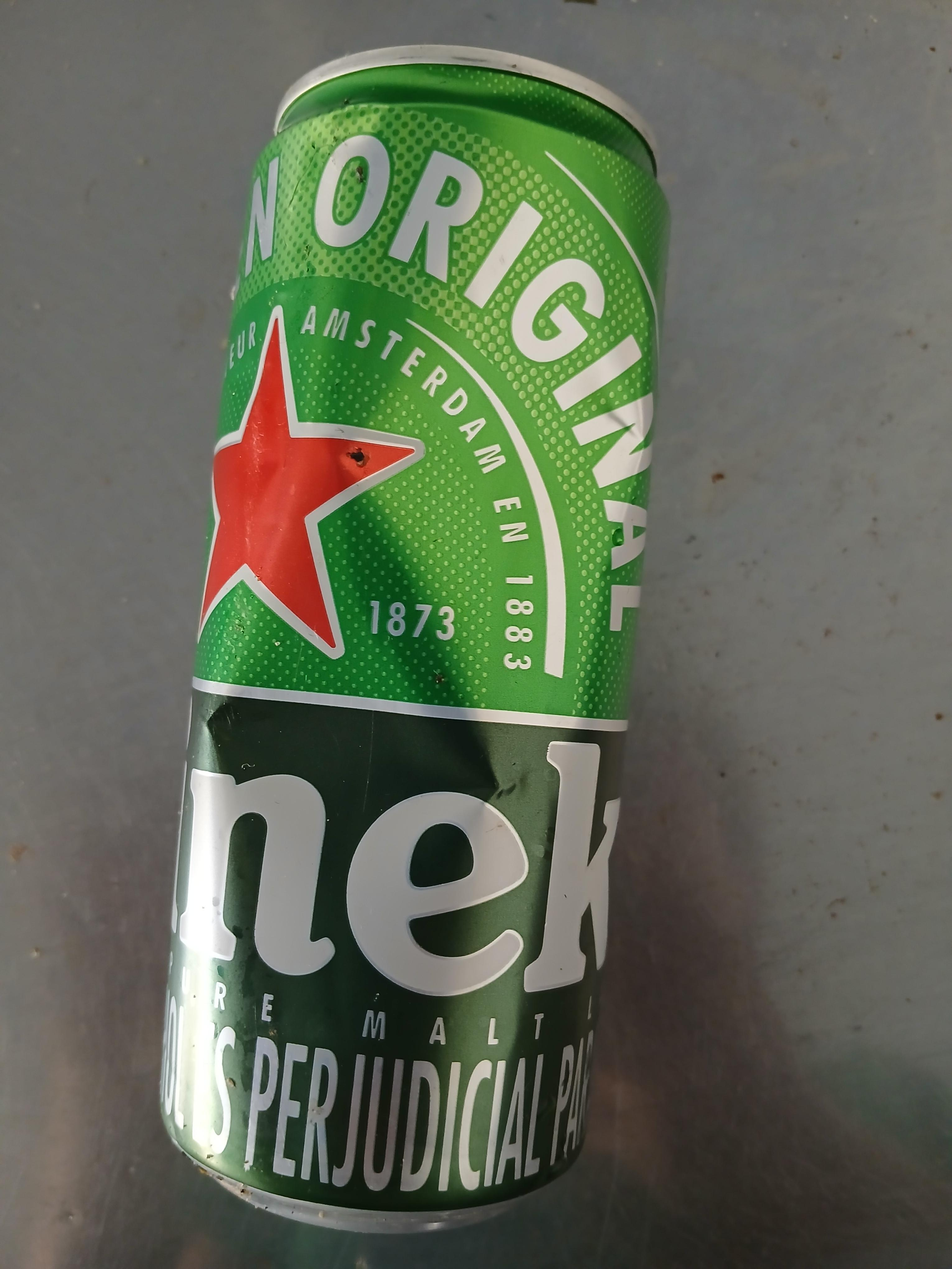Metal: (156, 44, 673, 1237)
